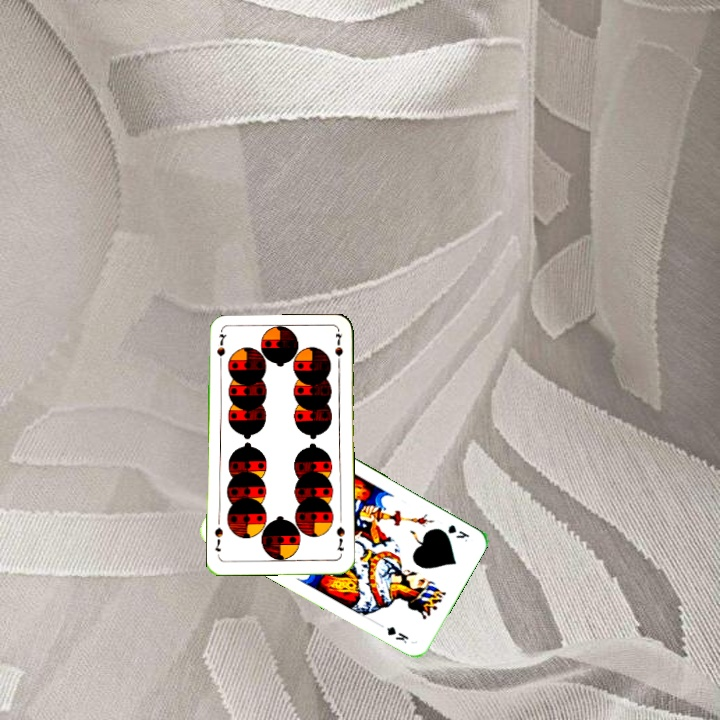GK: (443, 520, 472, 544)
S7: (213, 330, 228, 370), (333, 523, 347, 554)
